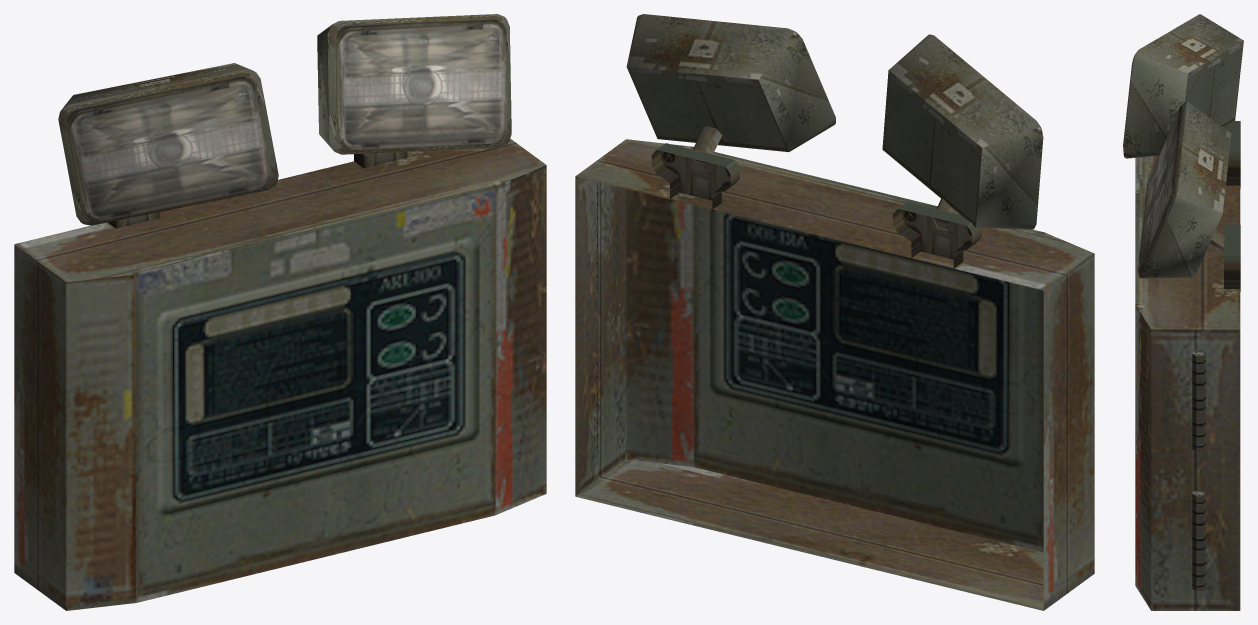
The model's file is alarm_box-2.FBX.
3 views of the same model, side by side, from view 1: azimuth 30°, elevation 25°; view 2: azimuth 150°, elevation 25°; view 3: azimuth 270°, elevation 25° (orthographic). The views are drawn at different scales.
Parts seen in each view (by area): view 1: alarm_box-2_LOD0; view 2: alarm_box-2_LOD0; view 3: alarm_box-2_LOD0.
Boxes of the visible parts, x1=… form: alarm_box-2_LOD0: x1=14, y1=14, x2=546, y2=610; alarm_box-2_LOD0: x1=575, y1=14, x2=1094, y2=610; alarm_box-2_LOD0: x1=1123, y1=14, x2=1243, y2=610.
Size of what is drawn, in the model's own units: 19.32 by 18.93 by 4.8.
